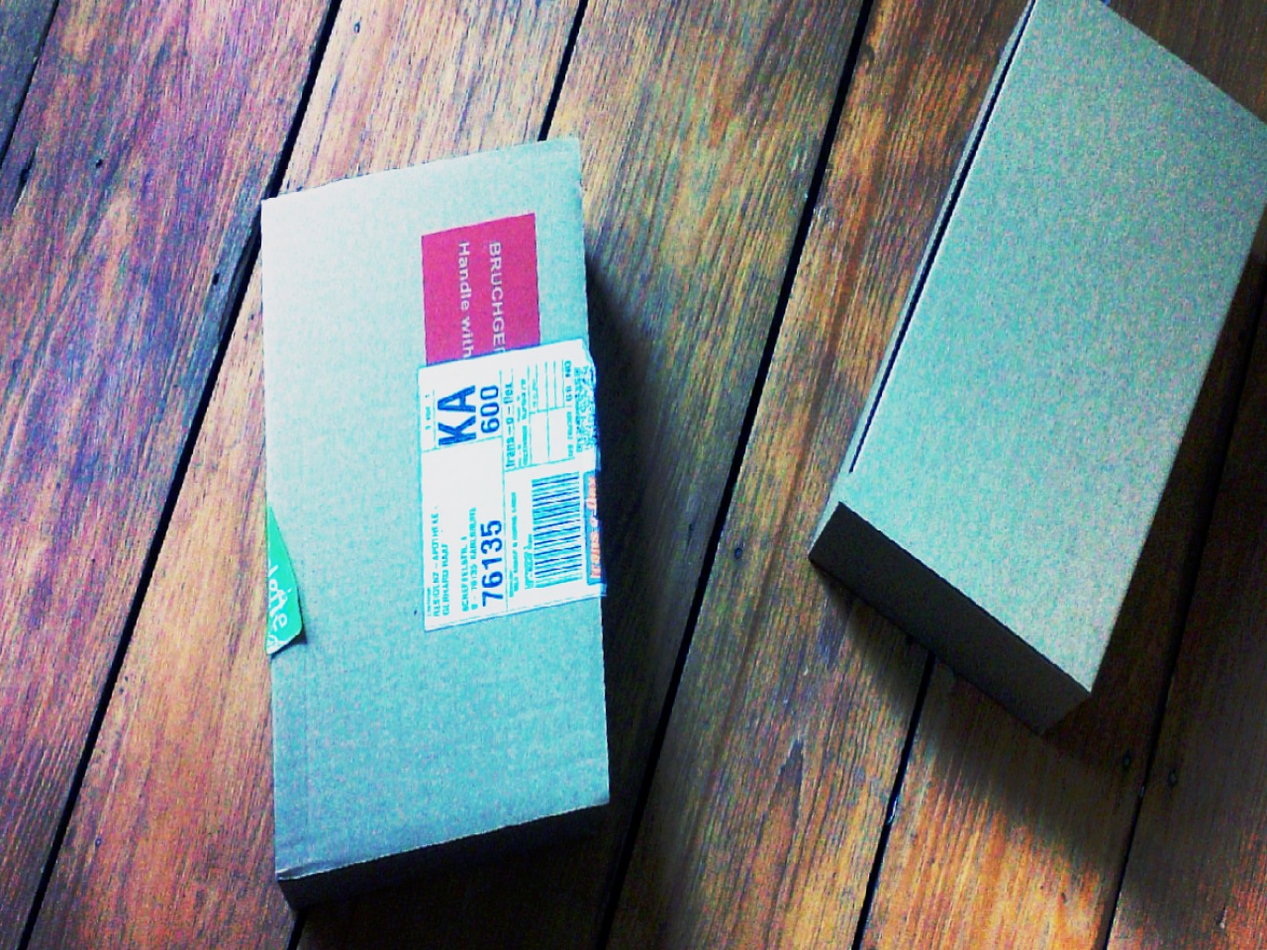good-parcel: (802, 10, 1267, 730), (250, 131, 614, 929)
